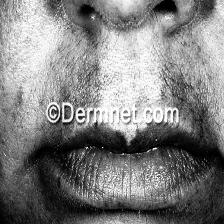Benign Marking or Mole: (58, 141, 222, 224)
